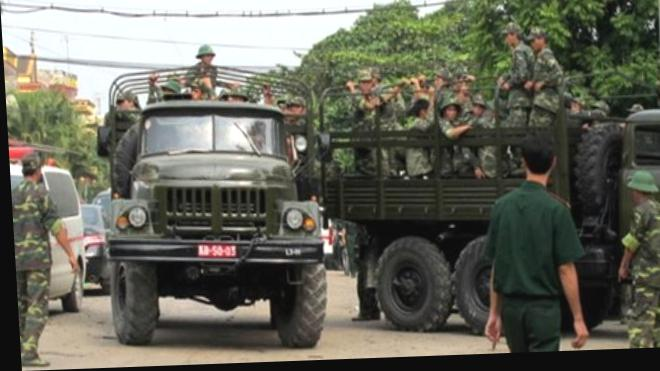License_Plate: (193, 241, 241, 262)
